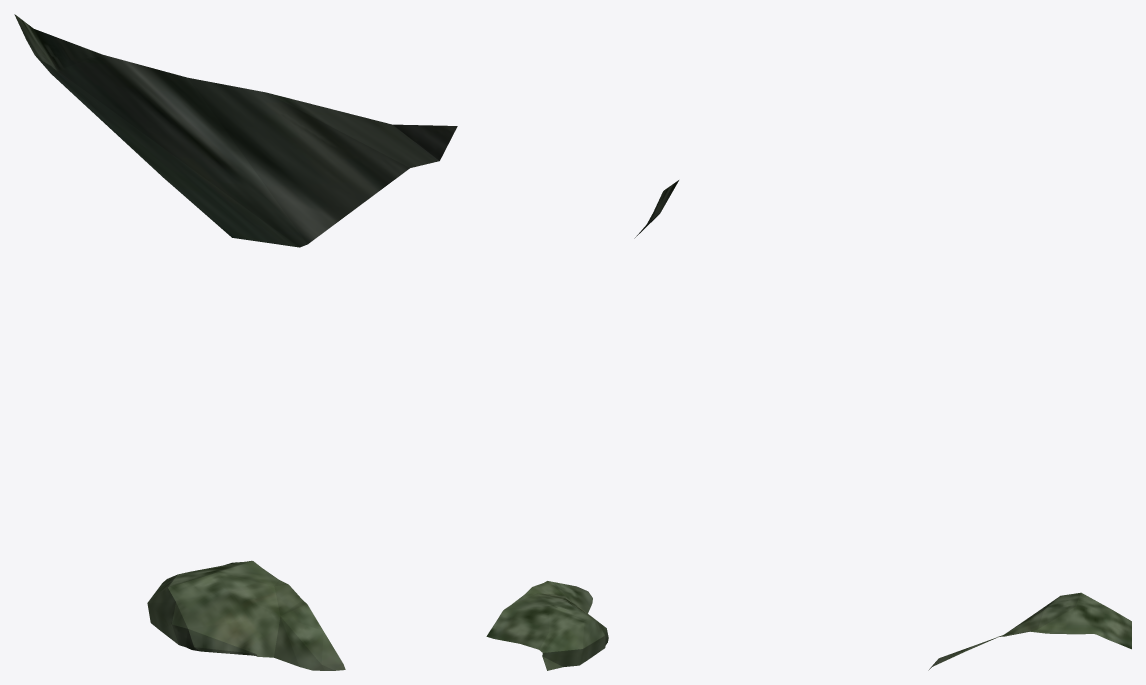
The picture shows the model from 3 angles, left to right: view 1: azimuth 30°, elevation 25°; view 2: azimuth 150°, elevation 25°; view 3: azimuth 270°, elevation 25°; orthographic projection. The views are drawn at different scales.
Bounding box in the file's own units: 1.08 × 2.95 × 1.93.
Materials: 1 (1 with a texture image).
